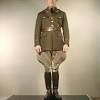uniform: (33, 7, 69, 64)
